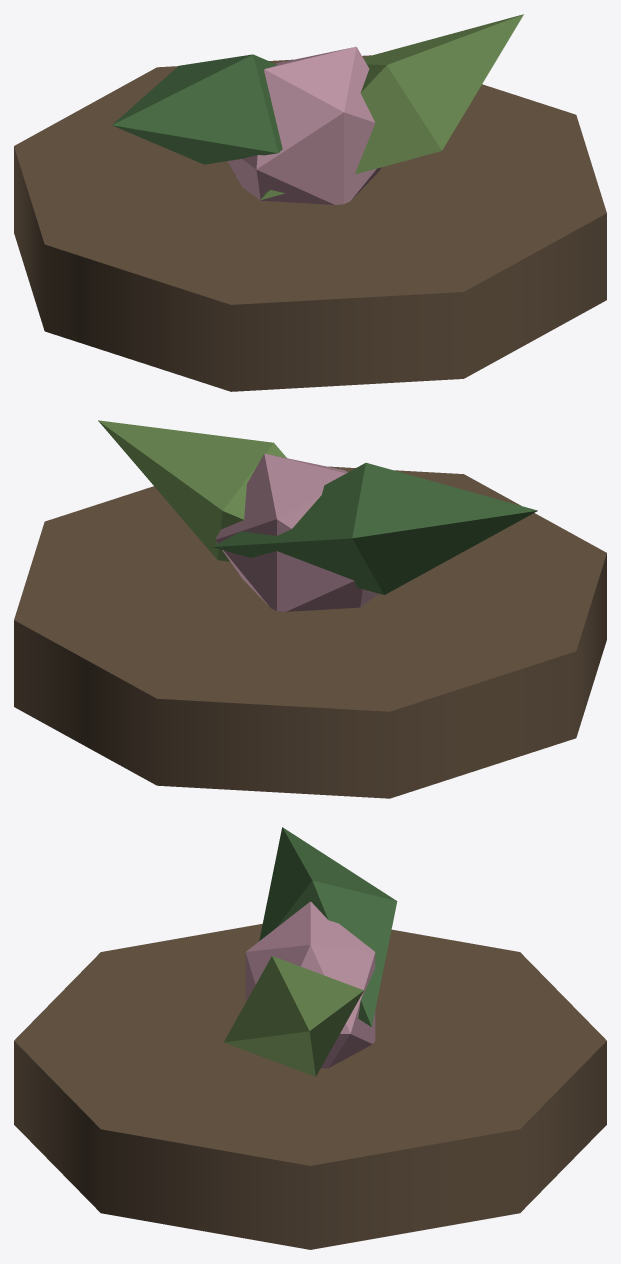
The model's file is plant-lotus-0.glb.
The picture shows the model from 3 angles, top to bottom: view 1: azimuth 30°, elevation 25°; view 2: azimuth 150°, elevation 25°; view 3: azimuth 270°, elevation 25°; orthographic projection. The views are drawn at different scales.
Parts seen in each view (by area): view 1: plant-lotus-0-visual; view 2: plant-lotus-0-visual; view 3: plant-lotus-0-visual.
Boxes of the visible parts, x1,y1,x2,y2 form: plant-lotus-0-visual: (14, 14, 606, 391); plant-lotus-0-visual: (14, 420, 606, 798); plant-lotus-0-visual: (14, 827, 606, 1249).
Size of the model in its own units: 0.32 by 0.1296 by 0.32.
